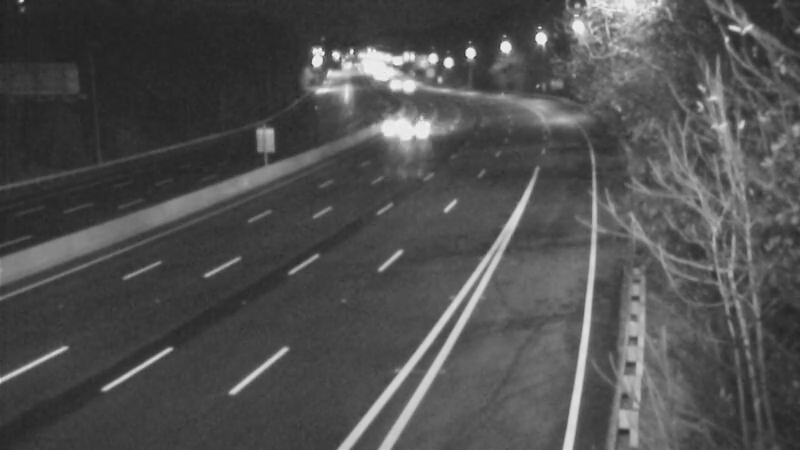vehicle: (383, 58, 433, 108), (388, 105, 438, 155), (364, 101, 414, 151)
